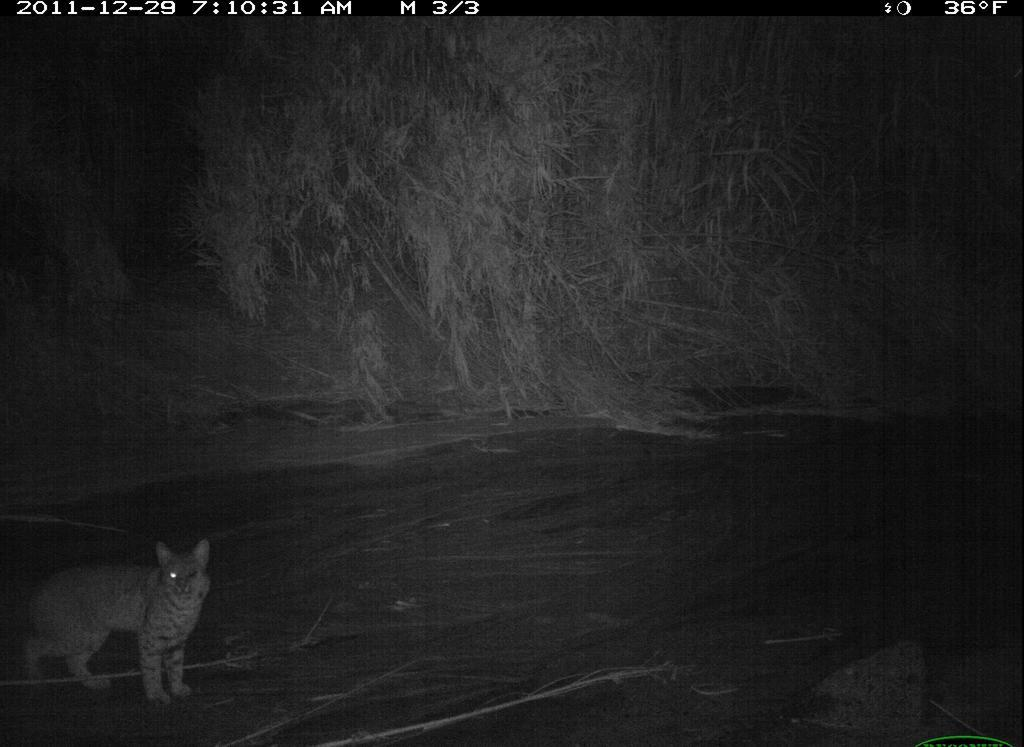bobcat: (27, 539, 218, 708)
